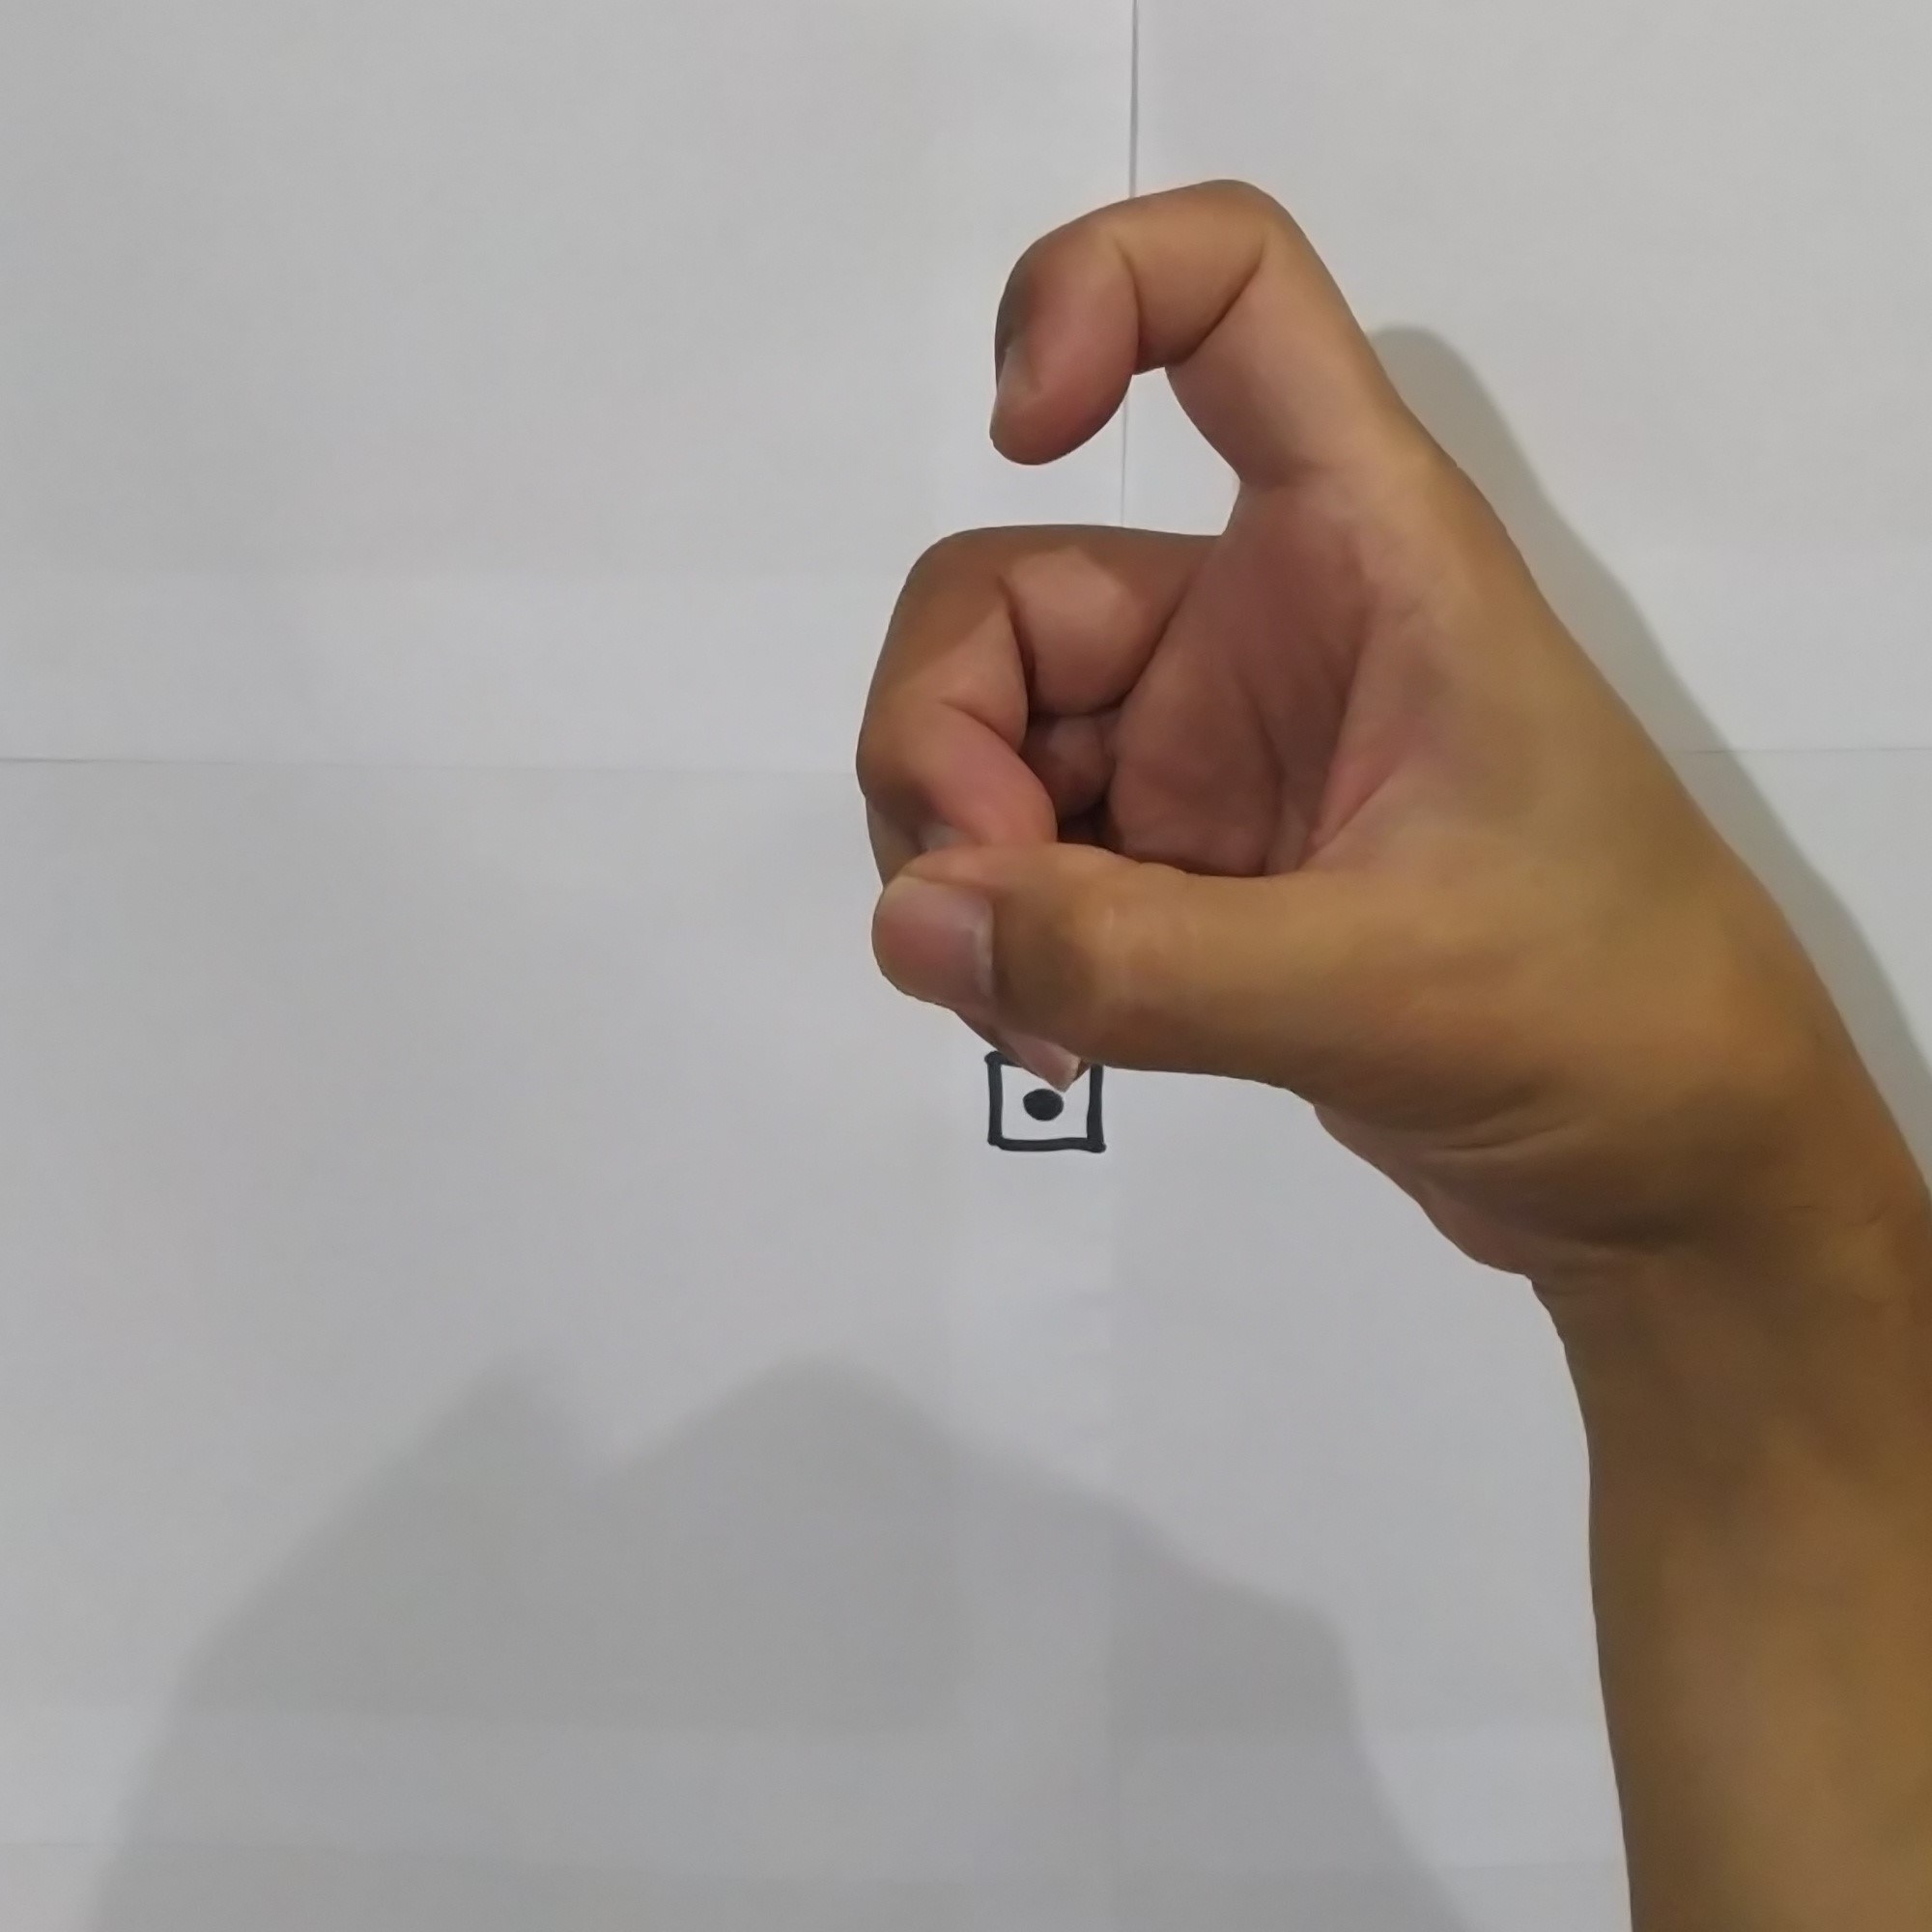X: (839, 149, 1813, 1274)
